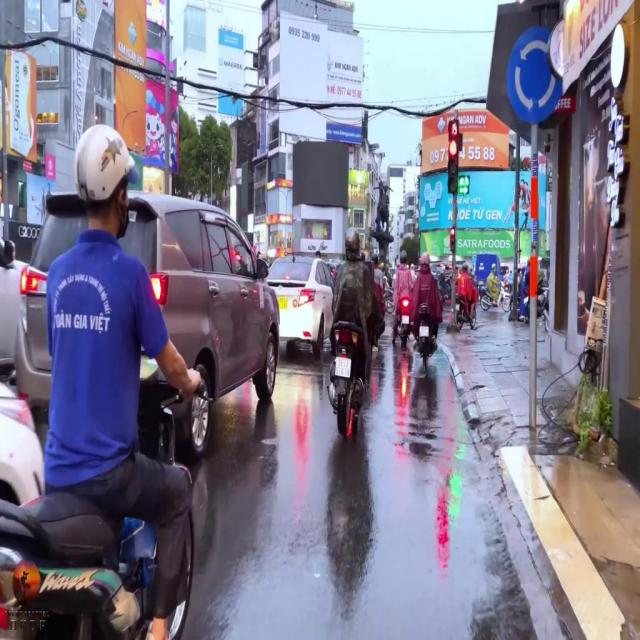noi_giao_nhau_chay_theo_vong: (507, 27, 562, 123)
